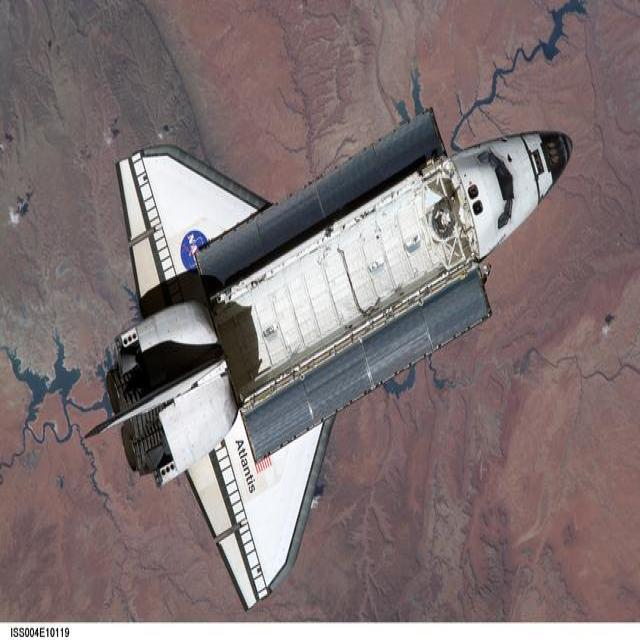satellite: (88, 110, 571, 608)
